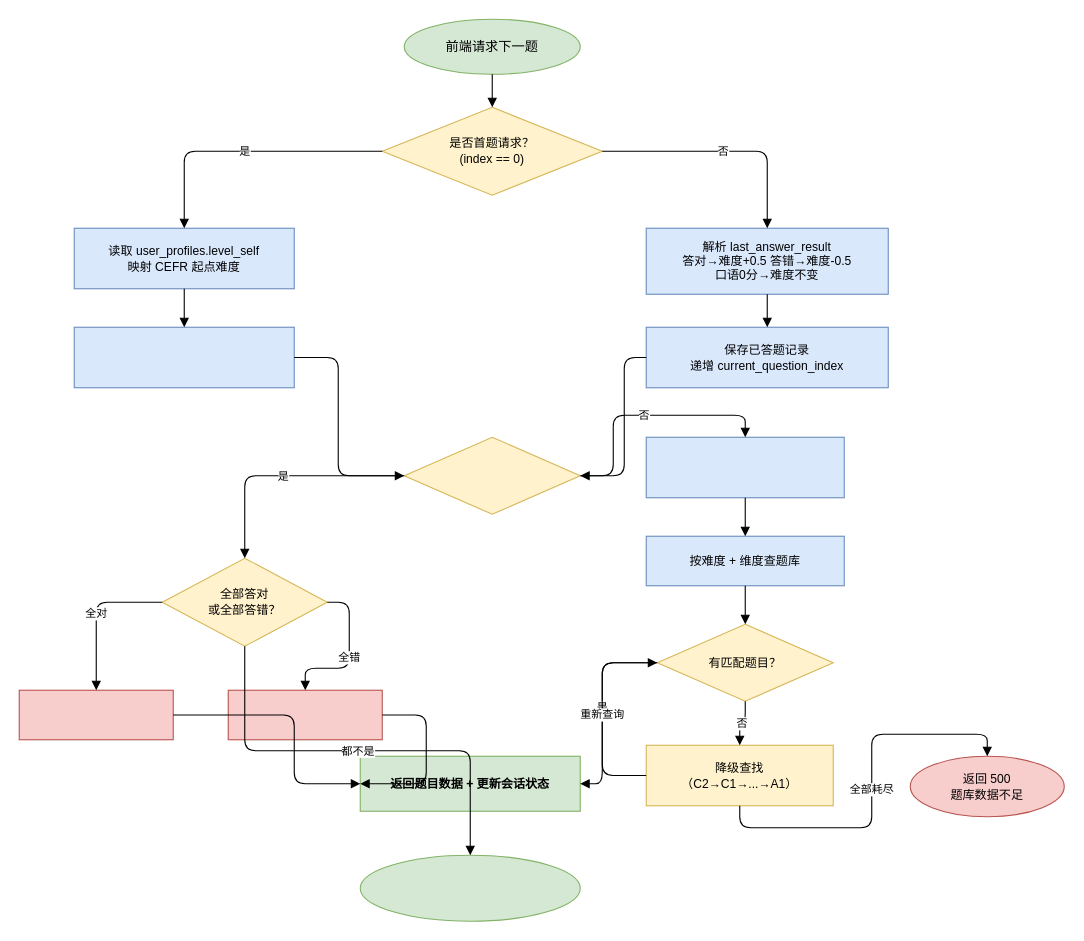
Some shapes in this 1084 by 941 pixel diagram are drawn without their labels. Each missing label, with the centre of its shape:
"创建 assessment_session 记录初始难度" goes at (x=183, y=357).
"已答满 10 题？" goes at (x=491, y=475).
"按题序模板确定 下一题维度" goes at (x=744, y=467).
"返回 assessment_complete: true 前端跳转报告页" goes at (x=469, y=887).
"追加 A1 兜底题" goes at (x=304, y=714).
"追加 C2 确认题" goes at (x=95, y=714).
